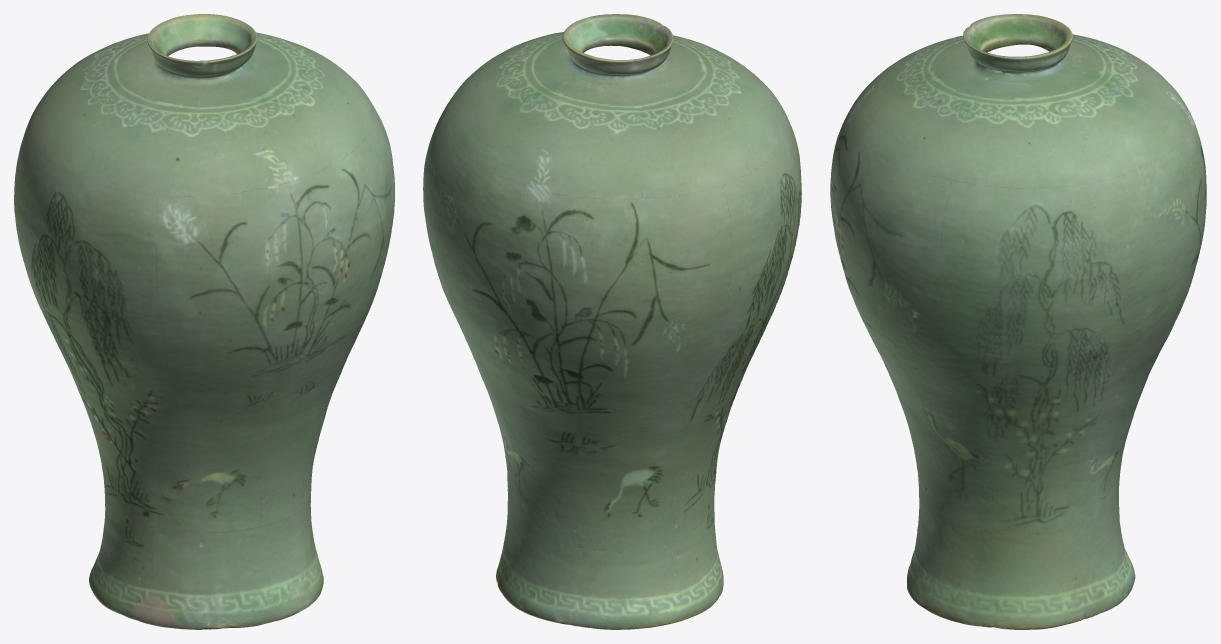
File: celadon-maebyeong-waterfowl.glb
3 views of the same model, side by side, from view 1: azimuth 30°, elevation 25°; view 2: azimuth 150°, elevation 25°; view 3: azimuth 270°, elevation 25° (orthographic).
Visible parts, largest first — view 1: duk005382-000-30000; view 2: duk005382-000-30000; view 3: duk005382-000-30000.
Boxes of the visible parts, <box> form: duk005382-000-30000: <box>14,14,394,629</box>; duk005382-000-30000: <box>423,14,801,629</box>; duk005382-000-30000: <box>830,14,1206,629</box>.
Bounding box in the file's own units: 0.9377 × 1.5 × 0.9359.
1 material, 1 textured.
